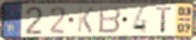2: (24, 5, 45, 36), (48, 6, 67, 35)
4: (130, 5, 151, 35)
B: (97, 6, 123, 35)
K: (76, 6, 95, 35)
T: (154, 6, 174, 34)
